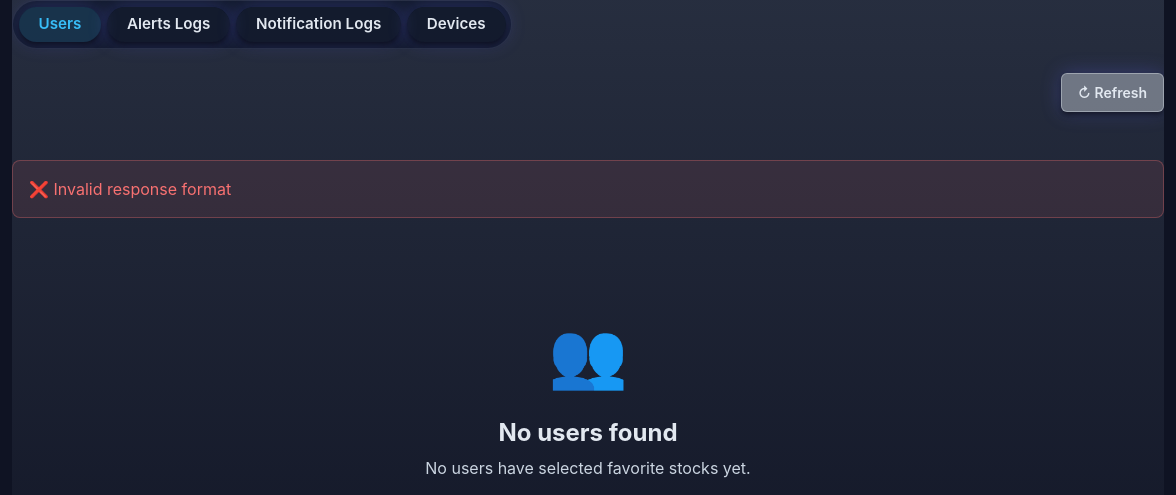
Test: MonitoringSection (Legacy MonitoringPage Tests) › should render loading state initially
The image size is (1176, 495).
# Click on Alerts Logs tab (MonitoringSection defaults to "users" tab)
Click the button "Alerts Logs".
click(169, 24)  # box x1=107 y1=7 x2=230 y2=42
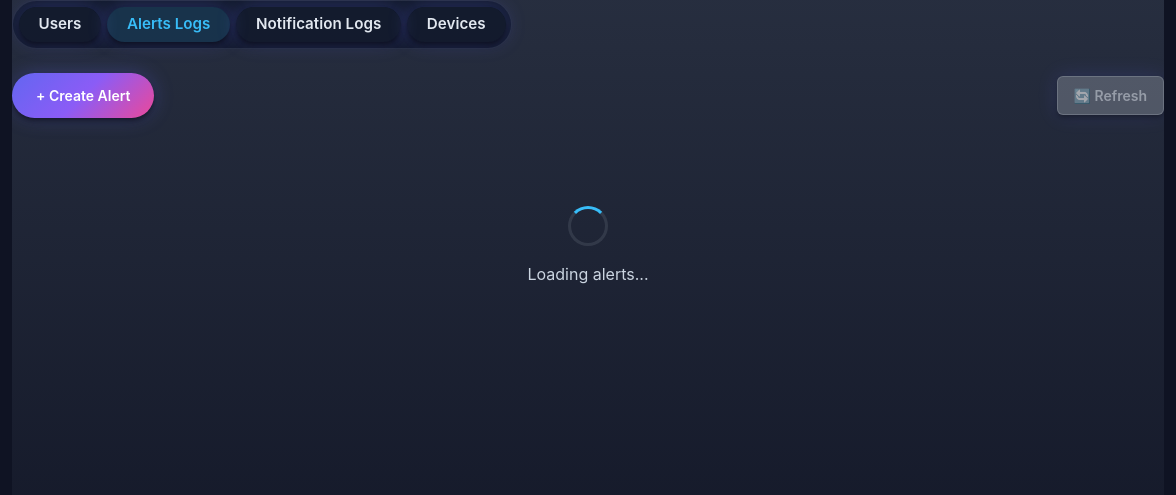
Expected: the text "Loading alerts..." is shown, x1=528 y1=262 x2=648 y2=286
